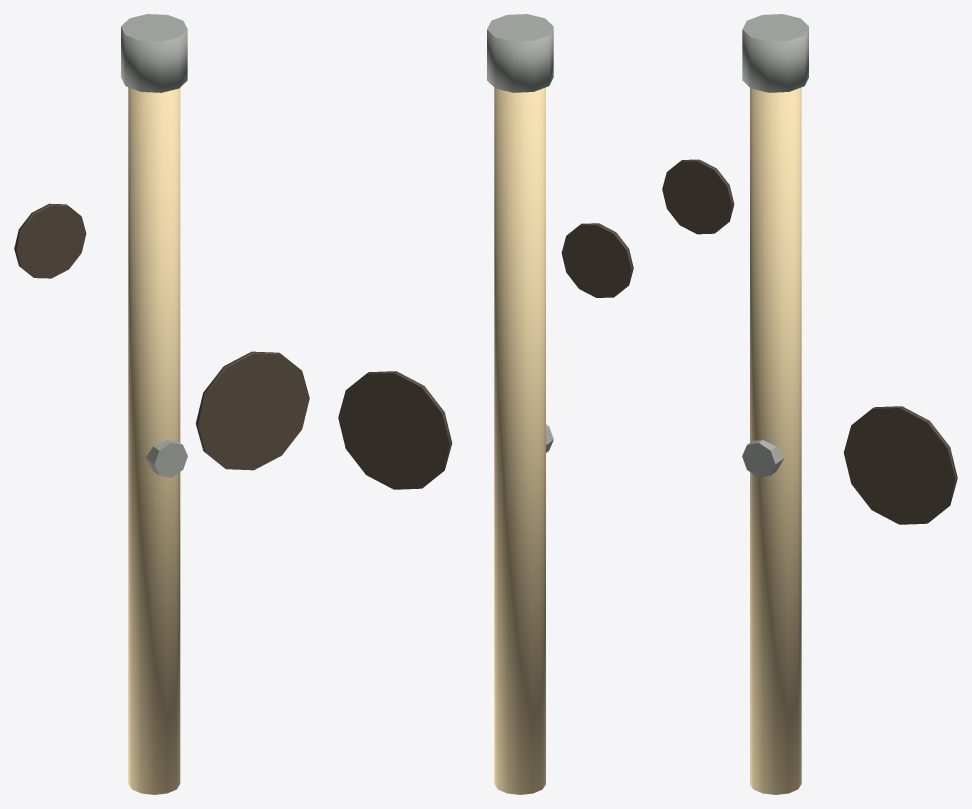
File: drip_m01.obj
3 views of the same model, side by side, from view 1: azimuth 30°, elevation 25°; view 2: azimuth 150°, elevation 25°; view 3: azimuth 330°, elevation 25° (orthographic).
Parts seen in each view (by area): view 1: hose1, wet1_0, end_cap, wet1_1, emitter1; view 2: hose1, wet1_0, end_cap, wet1_1; view 3: hose1, wet1_0, end_cap, wet1_1, emitter1.
Part boxes in pixels (x1,y1,x2,y2): hose1: (128, 87, 180, 794); wet1_0: (195, 351, 309, 470); end_cap: (121, 14, 187, 92); wet1_1: (14, 203, 86, 278); emitter1: (146, 440, 187, 477); hose1: (494, 87, 545, 794); wet1_0: (338, 371, 452, 489); end_cap: (487, 14, 553, 92); wet1_1: (561, 223, 633, 297); hose1: (750, 87, 801, 794); wet1_0: (843, 406, 957, 524); end_cap: (742, 14, 808, 92); wet1_1: (662, 159, 734, 234); emitter1: (742, 440, 784, 477).
Size of the model in its own units: 0.21 by 0.5175 by 0.0408.
3 materials, 3 textured.
